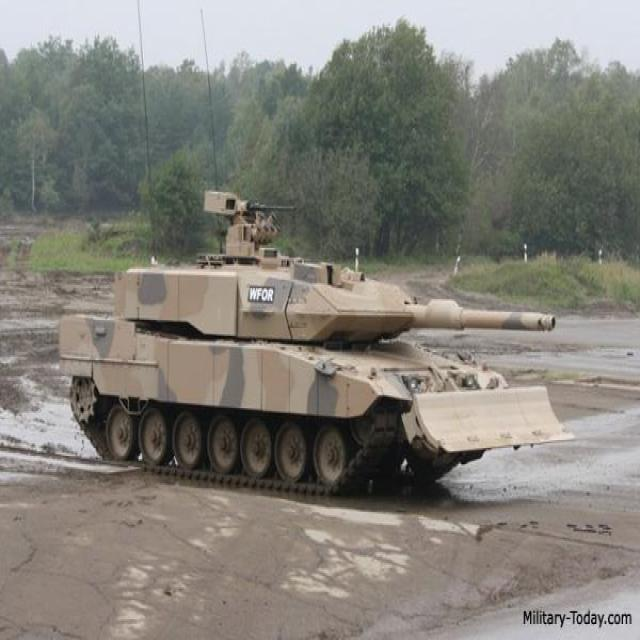Tanks: (32, 94, 576, 548)
